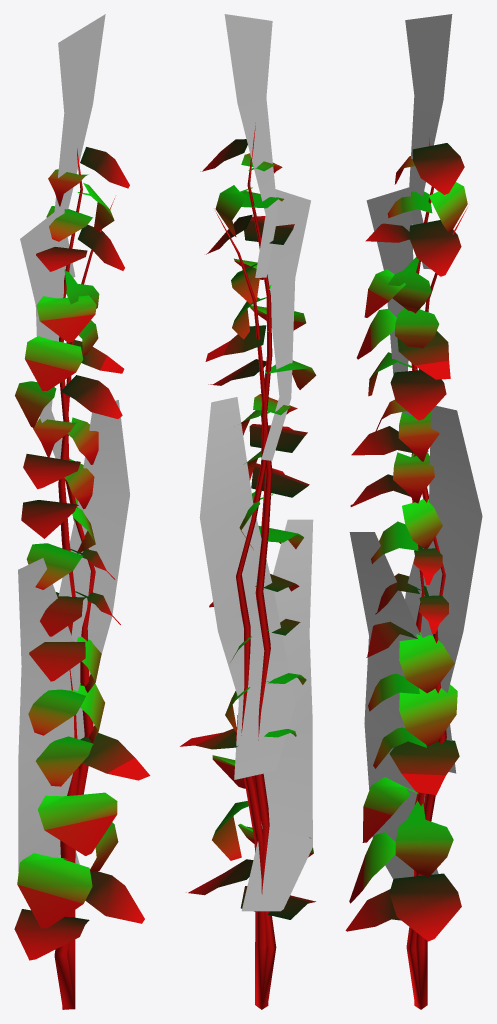
File: Var9_LOD1.fbx
3 renders of one model, left to right at view 1: azimuth 30°, elevation 25°; view 2: azimuth 210°, elevation 25°; view 3: azimuth 330°, elevation 25°, orthographic.
Parts seen in each view (by area): view 1: _9636_Var9_LOD1; view 2: _9636_Var9_LOD1; view 3: _9636_Var9_LOD1.
Boxes of the visible parts, <box> form: _9636_Var9_LOD1: <box>14,14,150,1009</box>; _9636_Var9_LOD1: <box>180,14,316,1009</box>; _9636_Var9_LOD1: <box>345,14,482,1009</box>.
Bounding box in the file's own units: 13.13 × 102 × 9.46.
